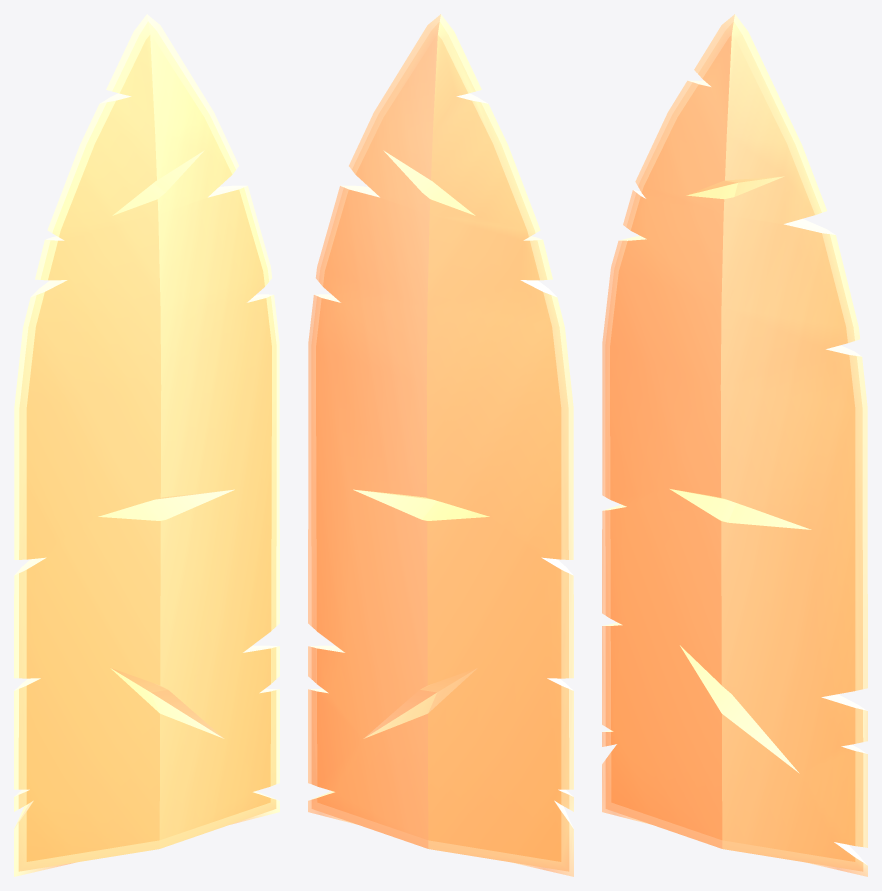
File: wood_blade_scratched_075.glb
3 views of the same model, side by side, from view 1: azimuth 30°, elevation 25°; view 2: azimuth 150°, elevation 25°; view 3: azimuth 330°, elevation 25° (orthographic).
Parts seen in each view (by area): view 1: wood_blade_scratched.075; view 2: wood_blade_scratched.075; view 3: wood_blade_scratched.075.
Boxes of the visible parts, x1,y1,x2,y2 form: wood_blade_scratched.075: (14,14,279,876); wood_blade_scratched.075: (308,14,573,876); wood_blade_scratched.075: (602,14,867,876).
Size of the model in its own units: 3.82 by 11.43 by 0.706.
Materials: 1 (1 with a texture image).
